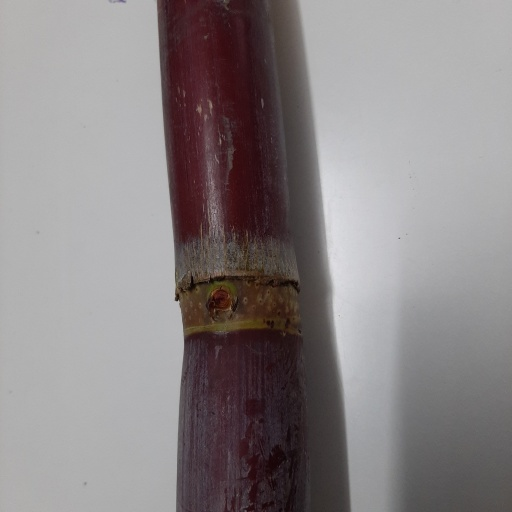Damage_Bud: (207, 286, 236, 322)
